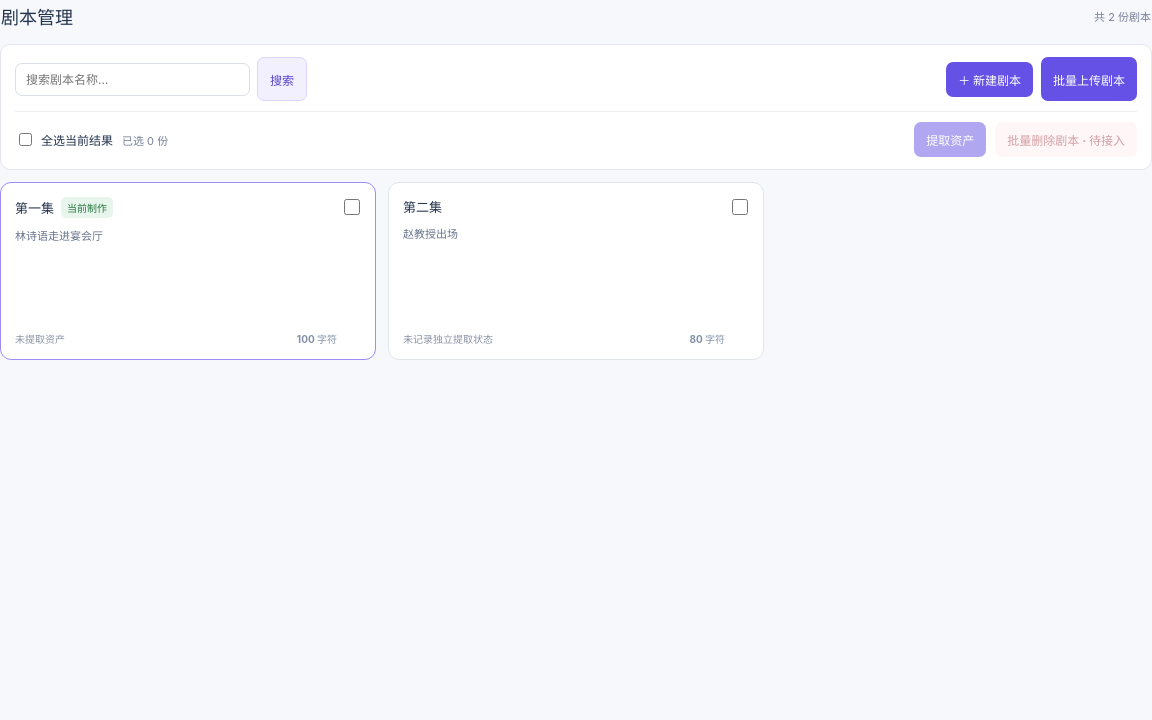
Test: ScriptToDramaScriptLibrary › creates a script only after the dialog has a name and text
The width and height of the screenshot is (1152, 720).
Step 1. Click the button "＋ 新建剧本" → (990,79), box [946, 62, 1033, 96]
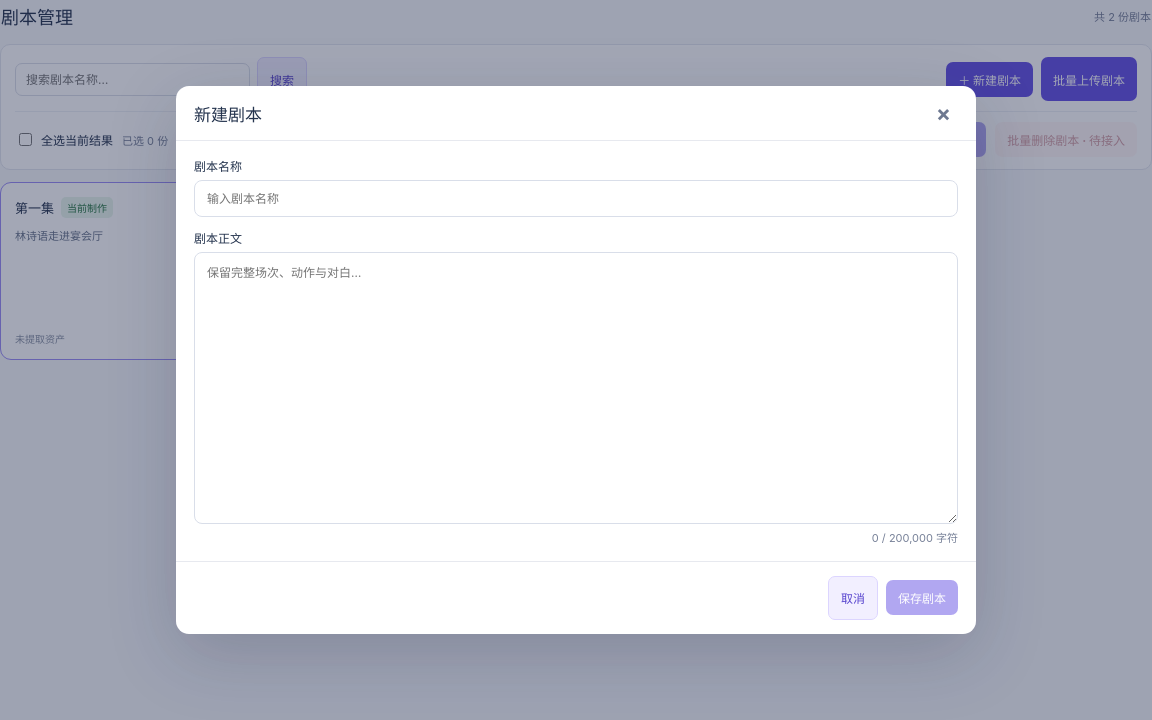
Result: the dialog is shown at [176, 86, 976, 634]
Result: the button "保存剧本" is disabled at [886, 580, 958, 615]
Step 2. Type "第三集" into the field labelled "剧本名称" → (576,199), box [194, 180, 958, 217]
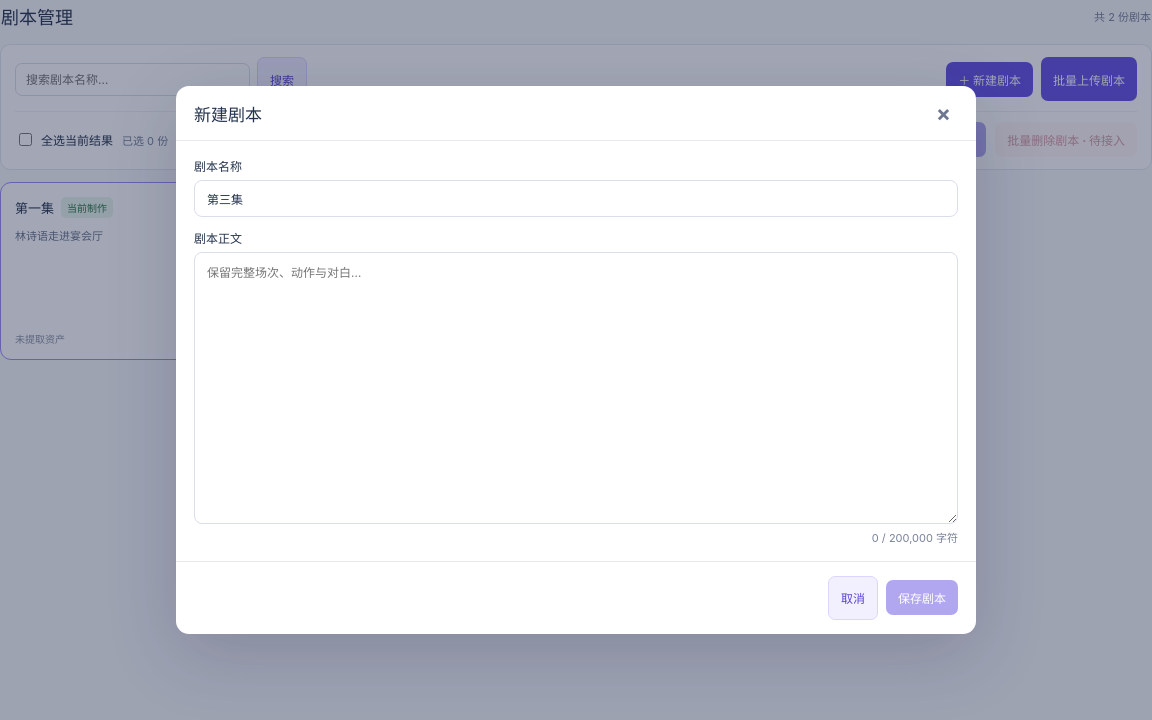
Step 3. Type "场次 01：开始" into the text box labelled "剧本正文" → (576,388), box [194, 252, 958, 524]
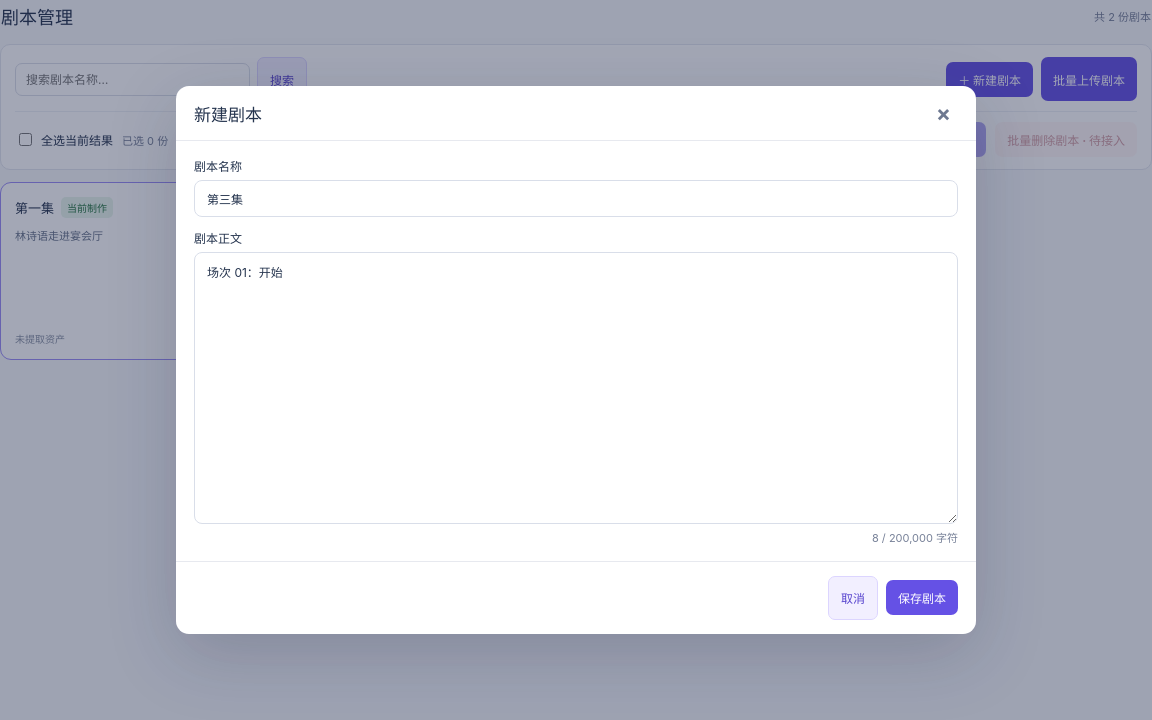
Step 4. Click the button "保存剧本" → (922,598), box [886, 580, 958, 615]
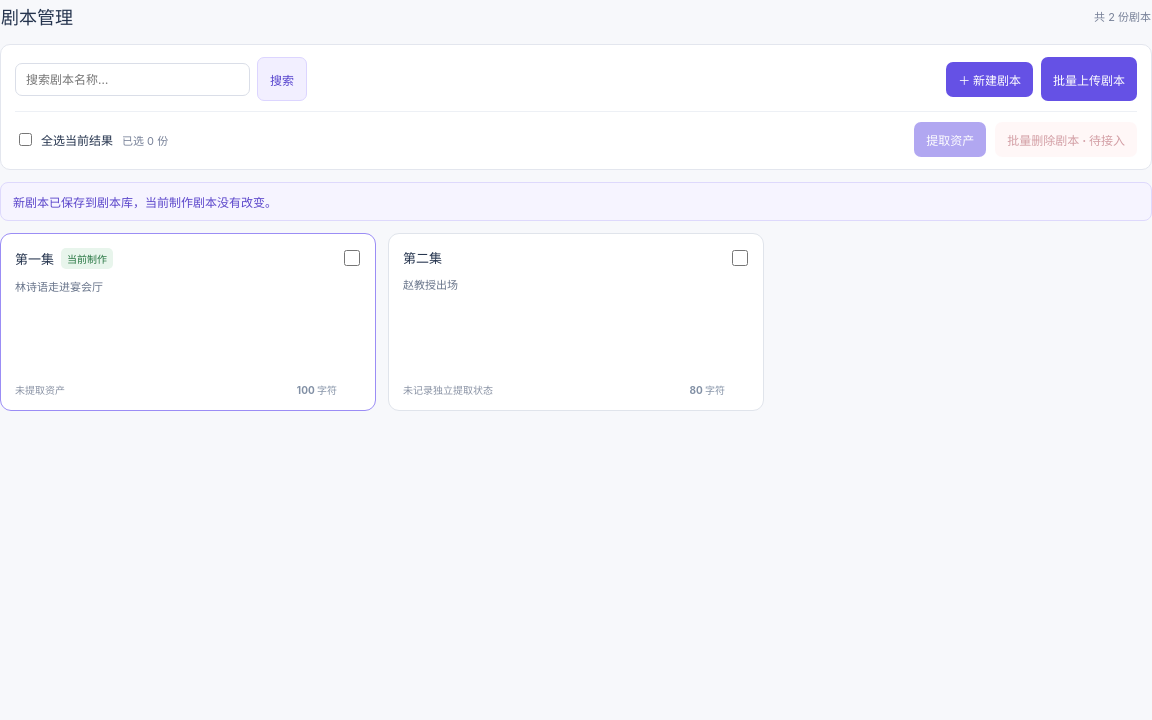
Result: the text "当前制作剧本没有改变" is shown at [13, 195, 277, 210]
